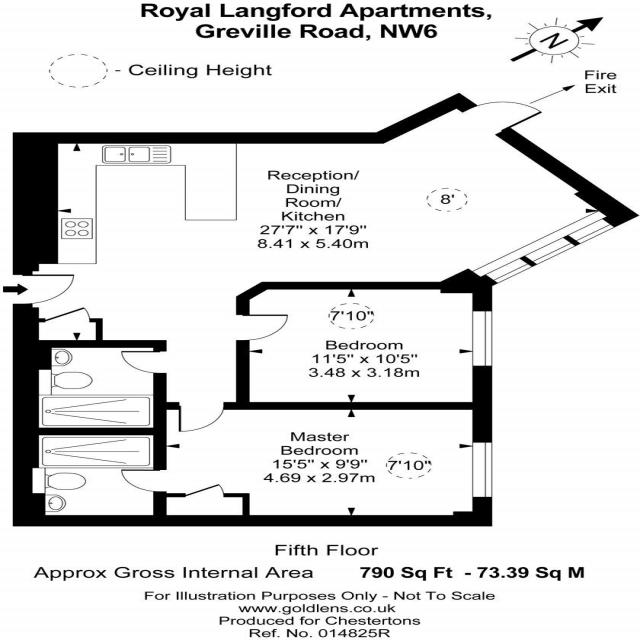DOOR: (459, 101, 544, 135), (12, 273, 77, 306), (235, 312, 292, 342), (173, 402, 227, 433), (118, 348, 167, 375), (118, 467, 168, 493)
ROOM: (11, 93, 639, 435), (118, 402, 493, 527), (235, 269, 493, 411)
WINDOW: (521, 236, 580, 266), (564, 217, 620, 246), (481, 257, 537, 286), (470, 439, 495, 499), (470, 308, 494, 368)
